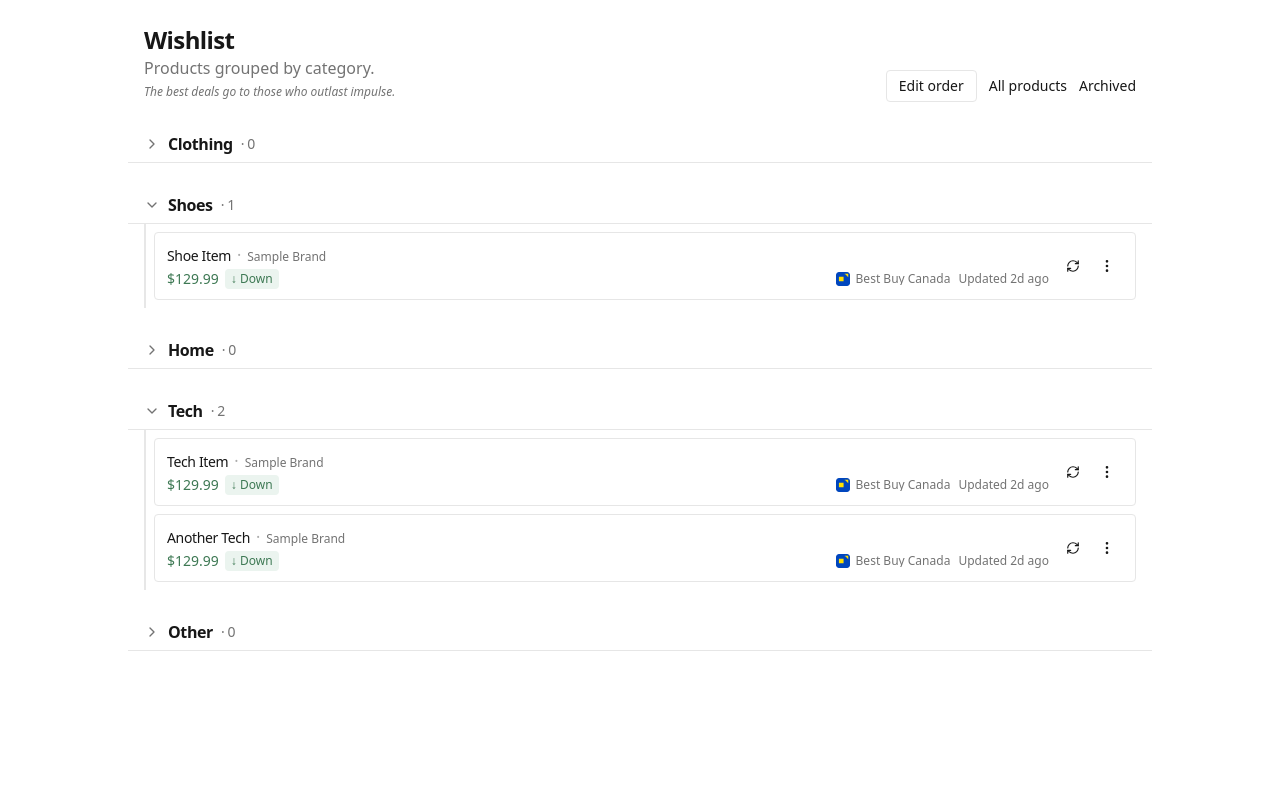
Test: DashboardPage grouping › shows edit order control
Click the button "Edit order".
click(931, 86)  # box [886,70,977,102]
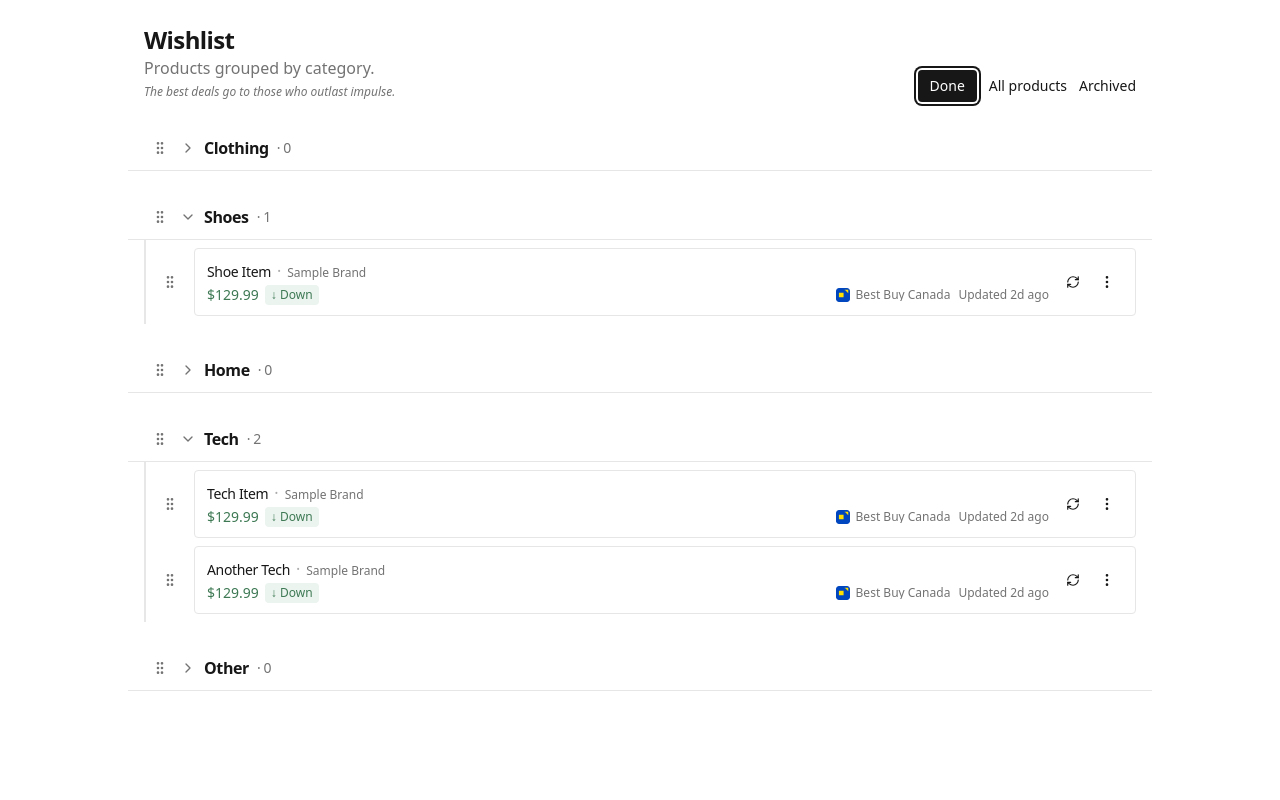
Result: the button "Done" is shown at [918,70,977,102]
